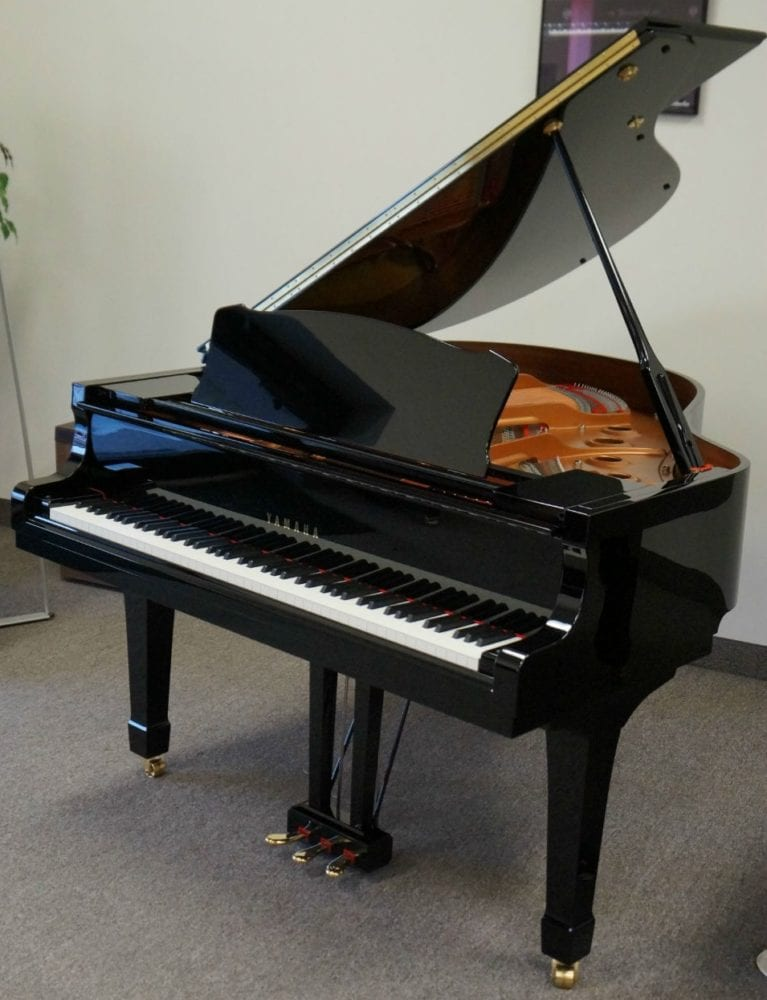GrandPiano: (5, 30, 761, 738)
